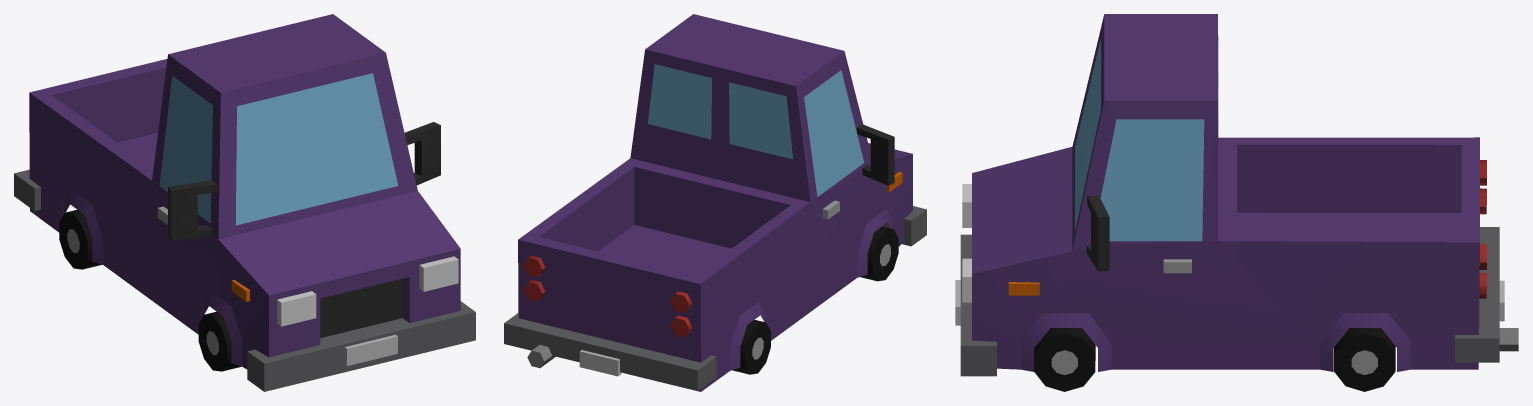
The model's file is Car_09_purple.fbx.
The picture shows the model from 3 angles, left to right: view 1: azimuth 30°, elevation 25°; view 2: azimuth 150°, elevation 25°; view 3: azimuth 270°, elevation 25°; orthographic projection. The views are drawn at different scales.
Visible parts, largest first — view 1: Car_09_purple; view 2: Car_09_purple; view 3: Car_09_purple.
Boxes of the visible parts, x1,y1,x2,y2 form: Car_09_purple: [14, 14, 475, 391]; Car_09_purple: [504, 14, 926, 391]; Car_09_purple: [955, 14, 1518, 391].
Bounding box in the file's own units: 65.22 × 59.58 × 110.
